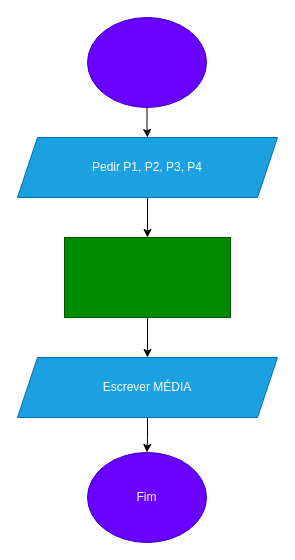
Some shapes in this 295 by 560 pixel diagram are drawn without their labels. Each missing label, with the centre of its shape:
Inicio: (x=146, y=62)
MÉDIA = (P1+P2+P3+P4)/4: (x=147, y=277)
